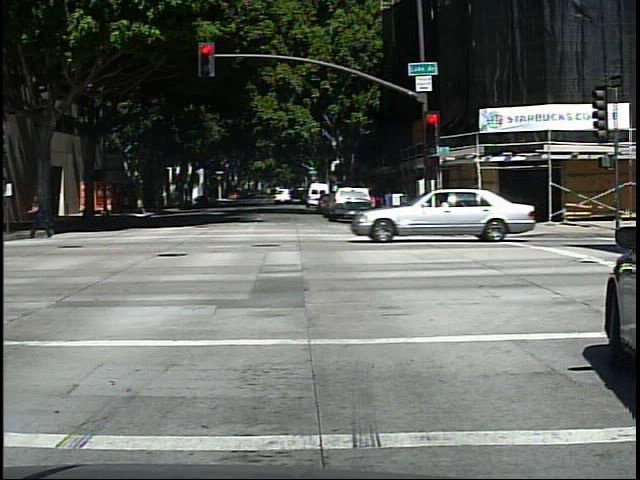person: (29, 189, 58, 242)
